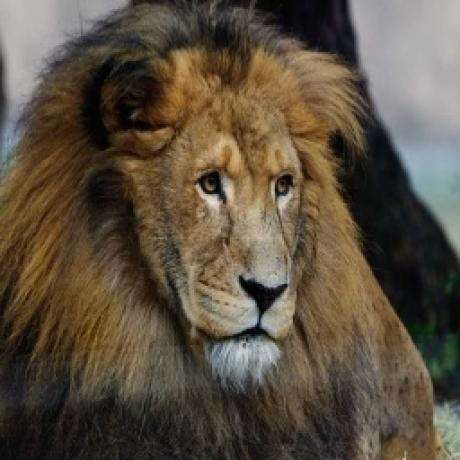Lion: (0, 0, 438, 460)
